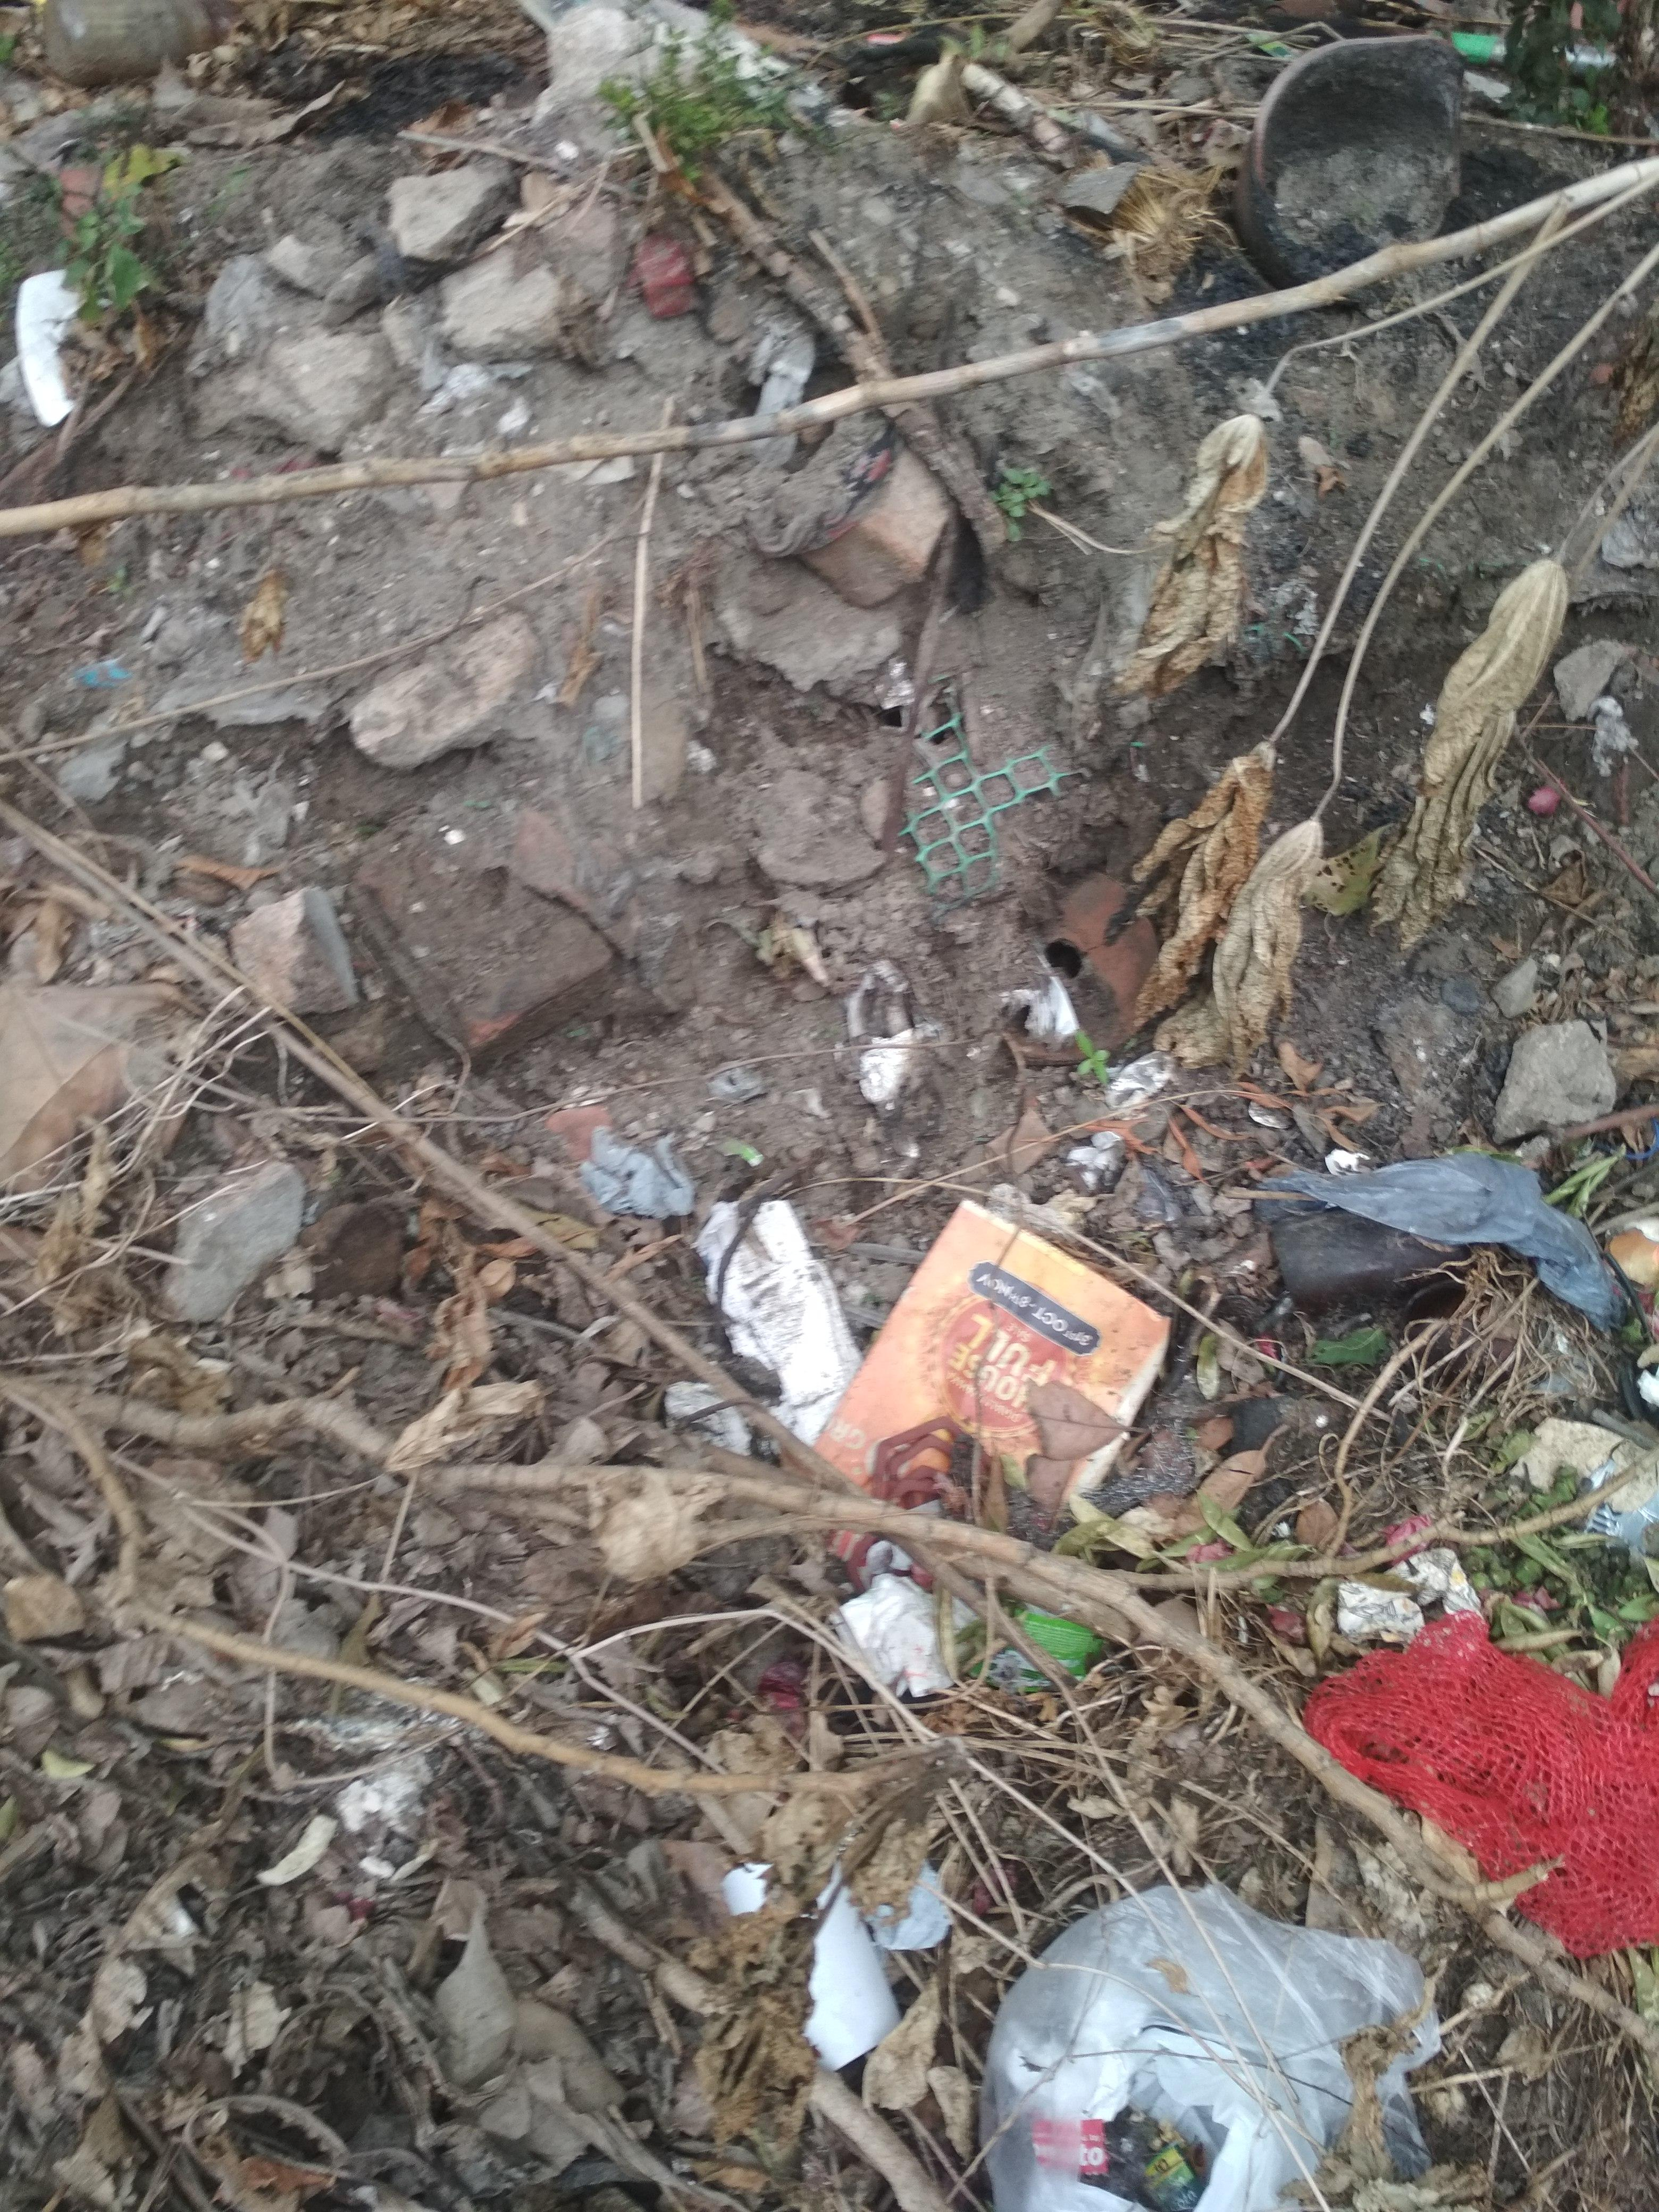dw: (664, 1136, 1657, 2212)
